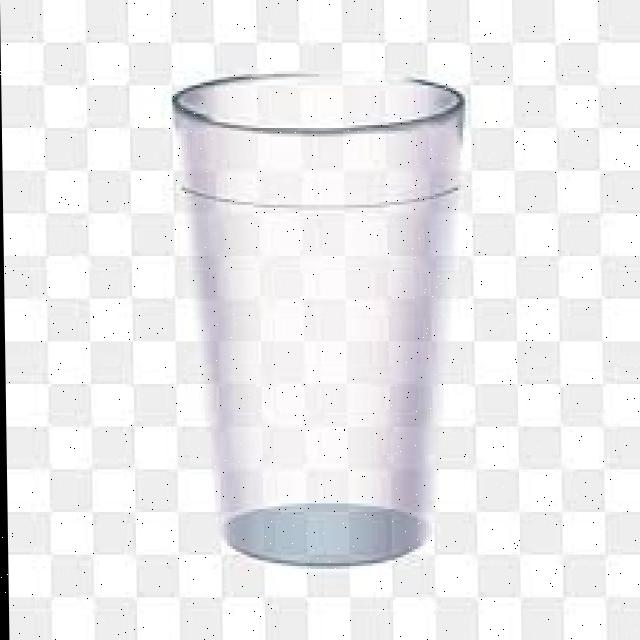cup: (162, 47, 513, 598)
